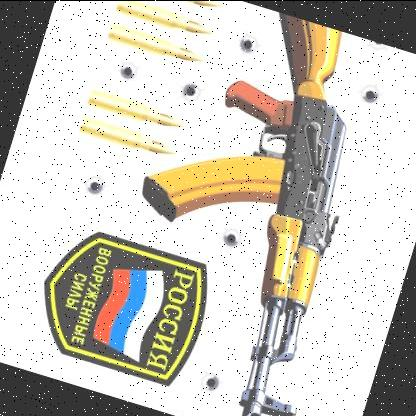rifle: (98, 0, 410, 416)
